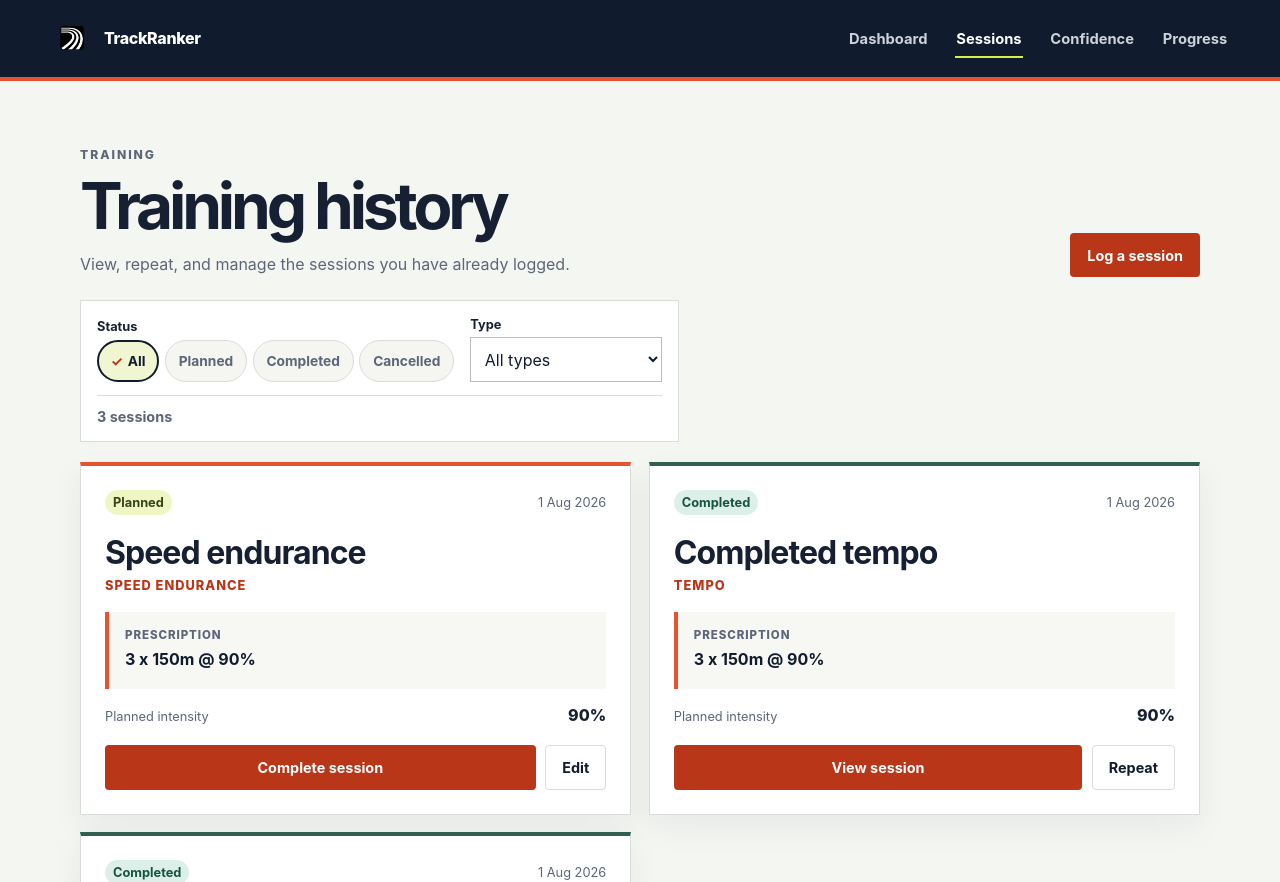
training sessions › keeps session filters when opening a session and returning
The image size is (1280, 882).
Select "Speed Endurance" in the dropdown labelled "Type" at point(566, 360), box [470,338,662,382]
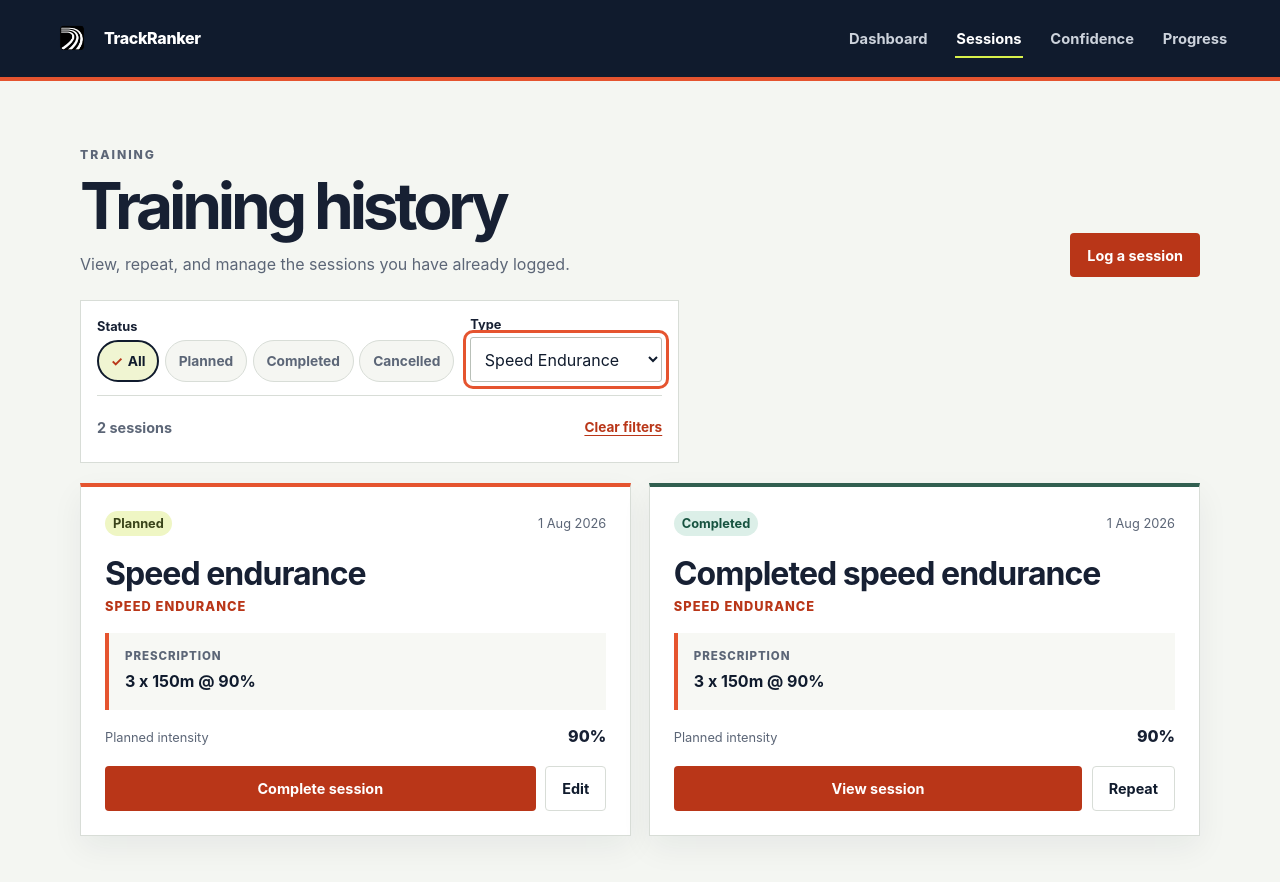
Click the link with aria-label "View session:".
click(878, 789)  # box [674,766,1082,811]
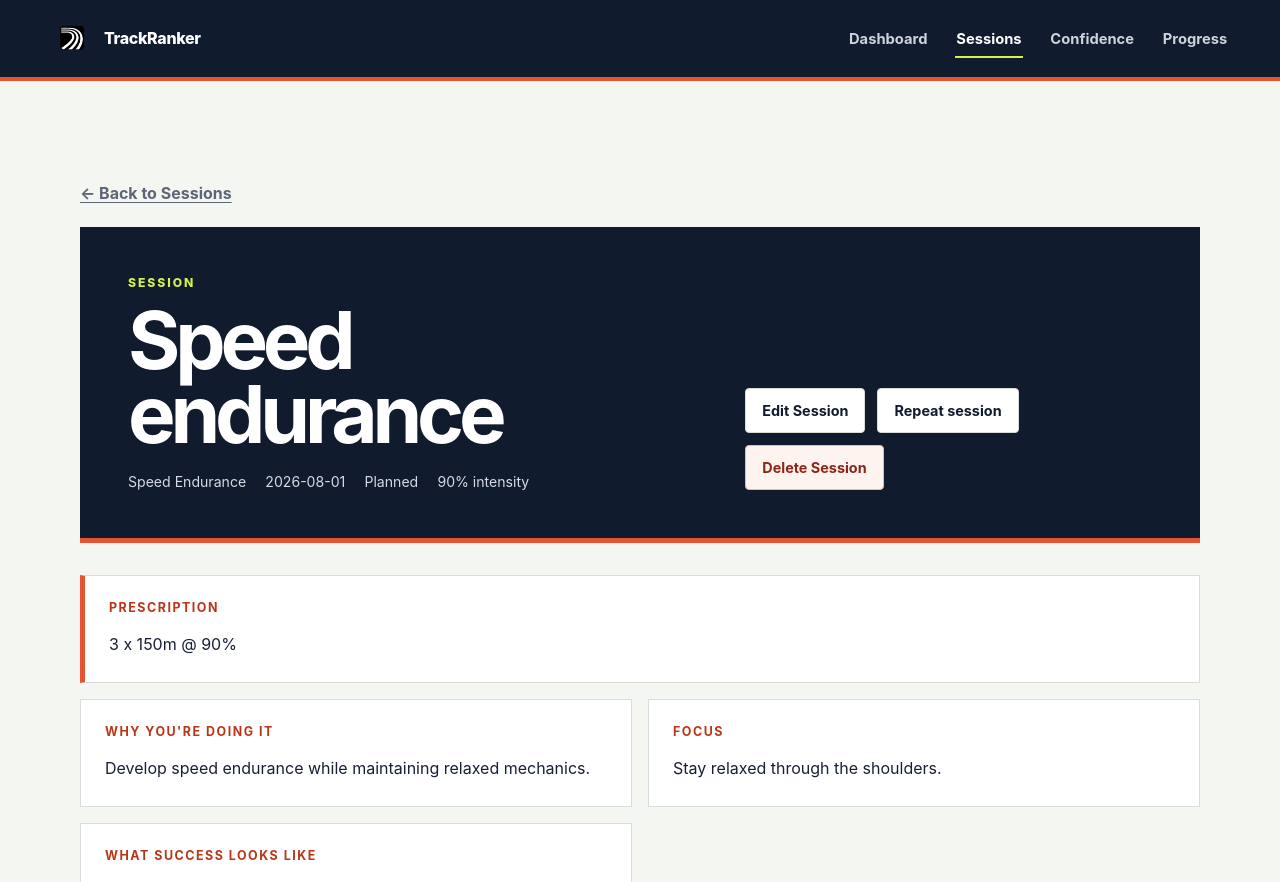
Click the link "← Back to Sessions".
click(156, 193)  # box [80,183,232,203]
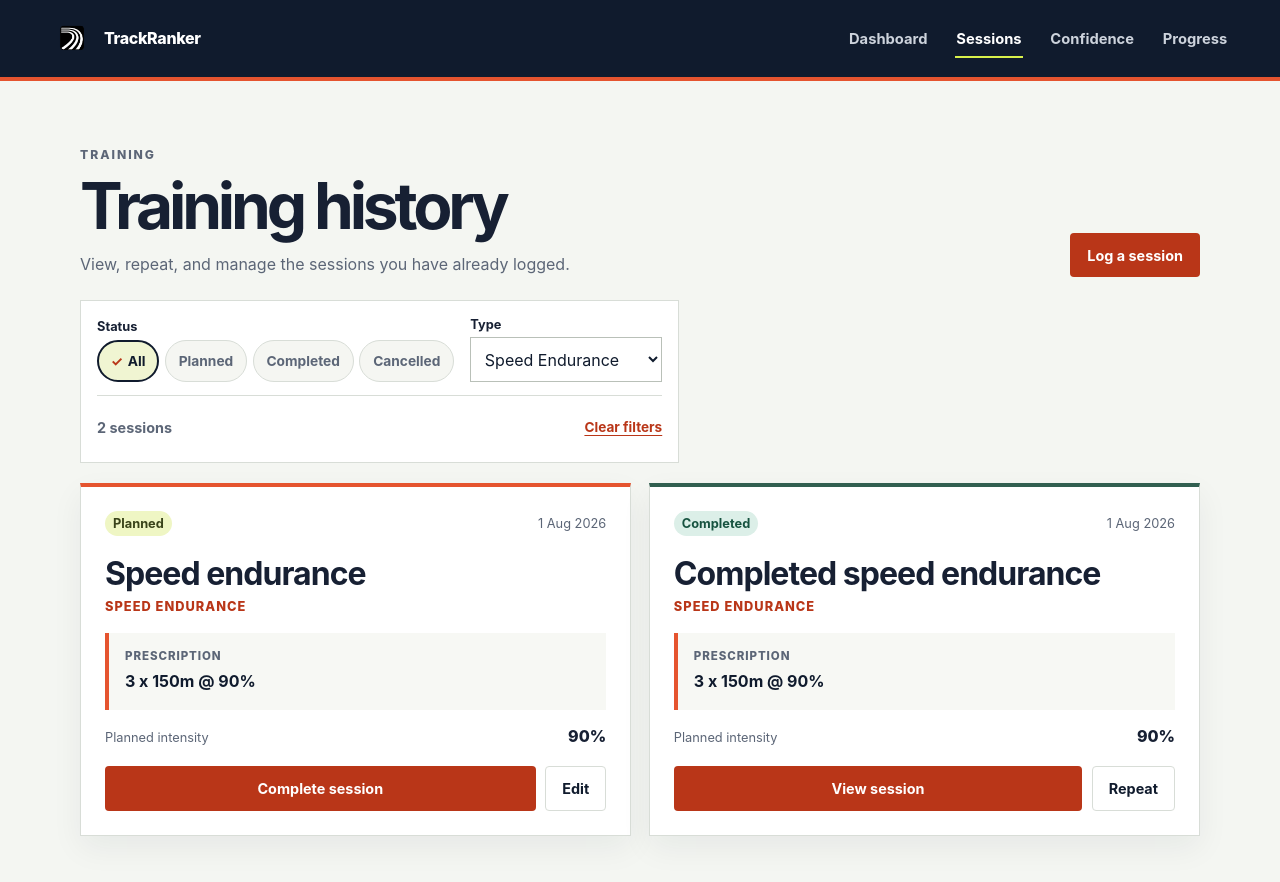
expect the heading "Completed tempo" is not shown: met
expect the dropdown labelled "Type" shows "Speed Endurance": met, box [470,338,662,382]
